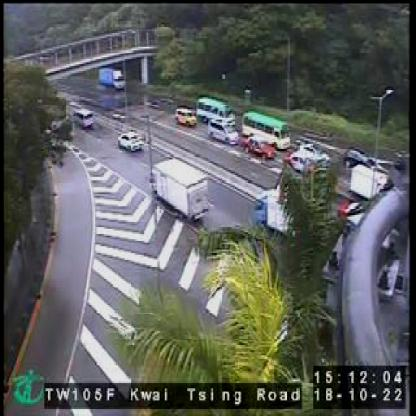Car: (298, 141, 330, 170), (208, 120, 240, 147), (243, 135, 276, 161), (283, 152, 316, 175), (344, 148, 378, 169), (117, 128, 142, 154), (73, 107, 95, 129), (174, 108, 197, 128)
Minibus: (242, 110, 290, 151), (195, 96, 235, 126)
Truck: (150, 158, 210, 222), (349, 162, 386, 202), (97, 64, 124, 92)
